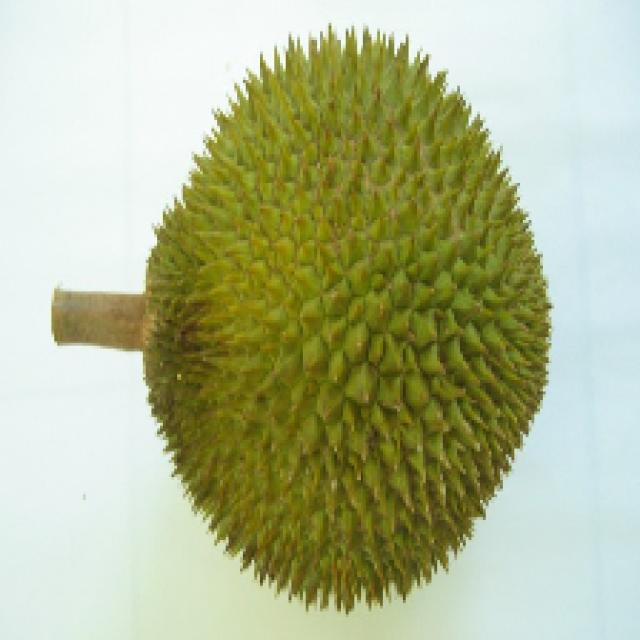d24: (55, 36, 556, 544)
